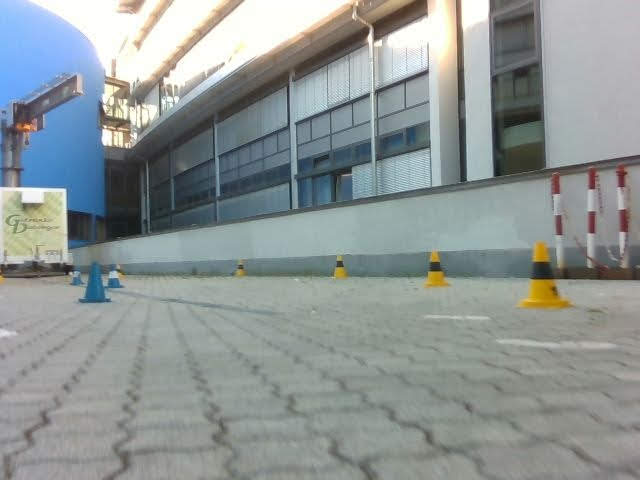cone-blue: (104, 261, 122, 289), (70, 266, 84, 285)
cone-yellow: (519, 240, 568, 309), (424, 249, 447, 287), (333, 254, 348, 278), (235, 258, 248, 277)
